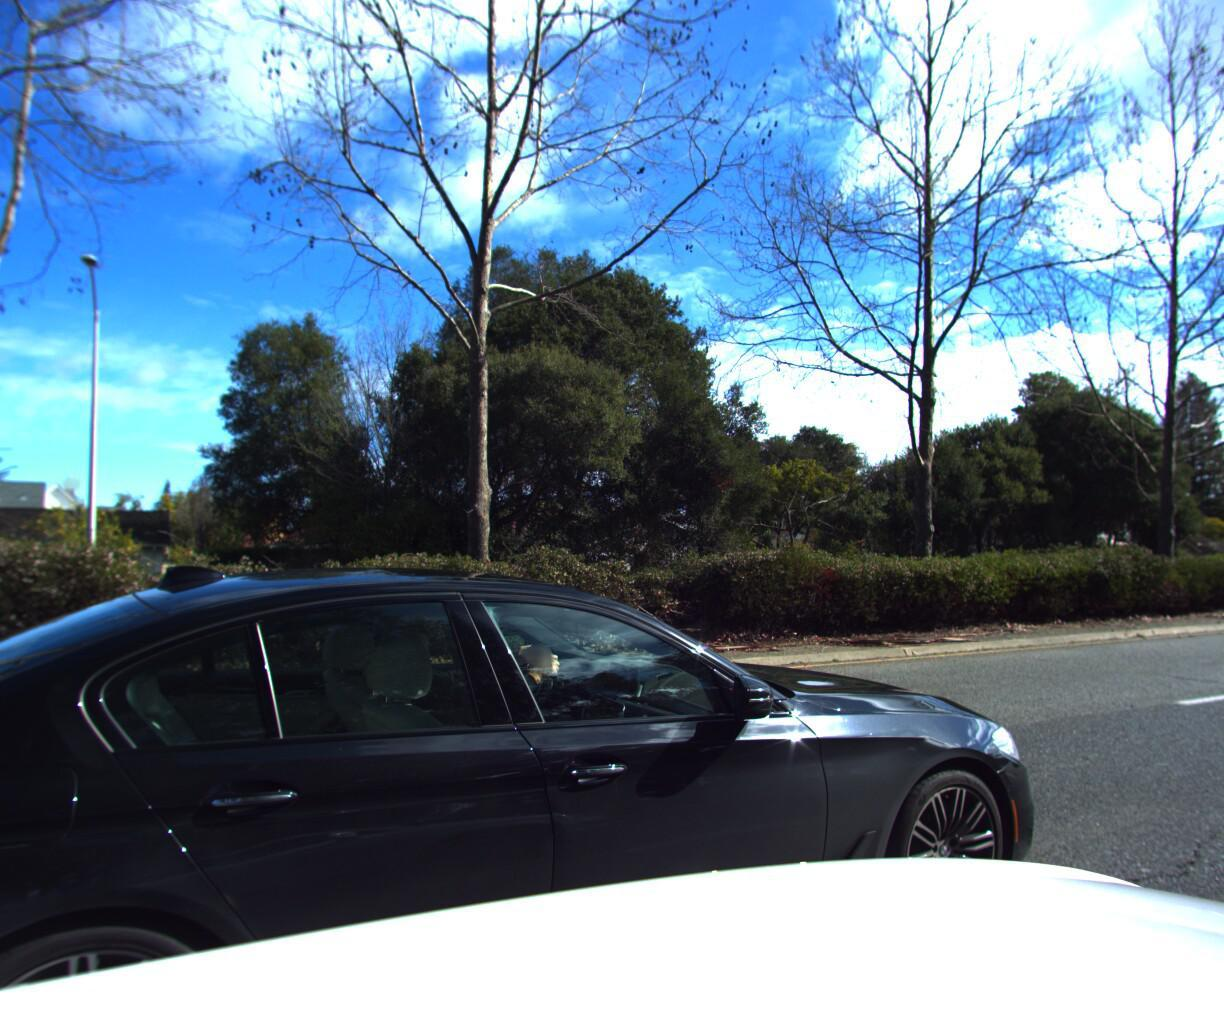car: (0, 547, 1066, 1024)
